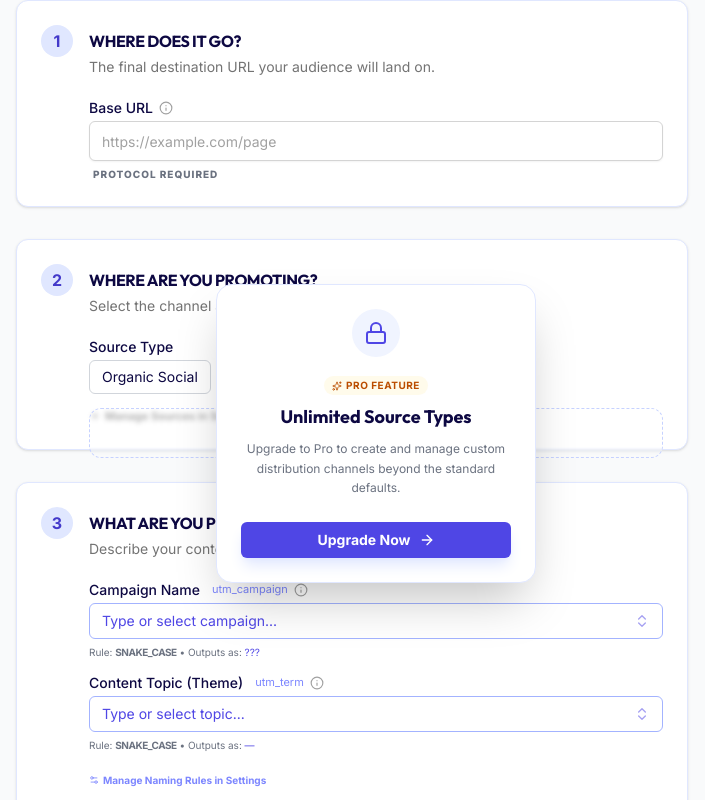
it: UtmGeneratorForm › validates Base URL on blur
This screenshot has width=705, height=800.
In the field labelled "Base URL": (376, 141) left=89, top=121, right=663, bottom=161, type "not-a-url"
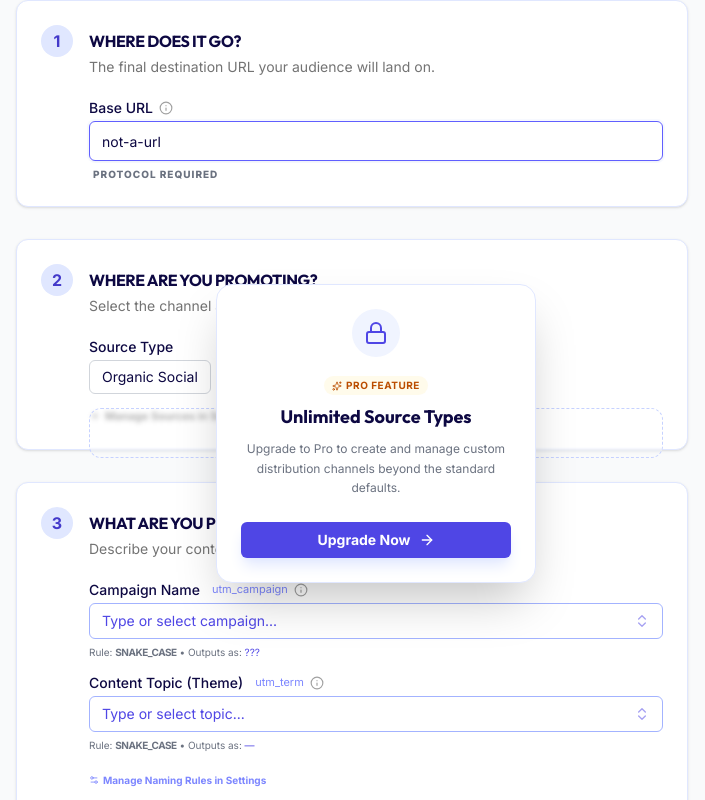
Press Tab
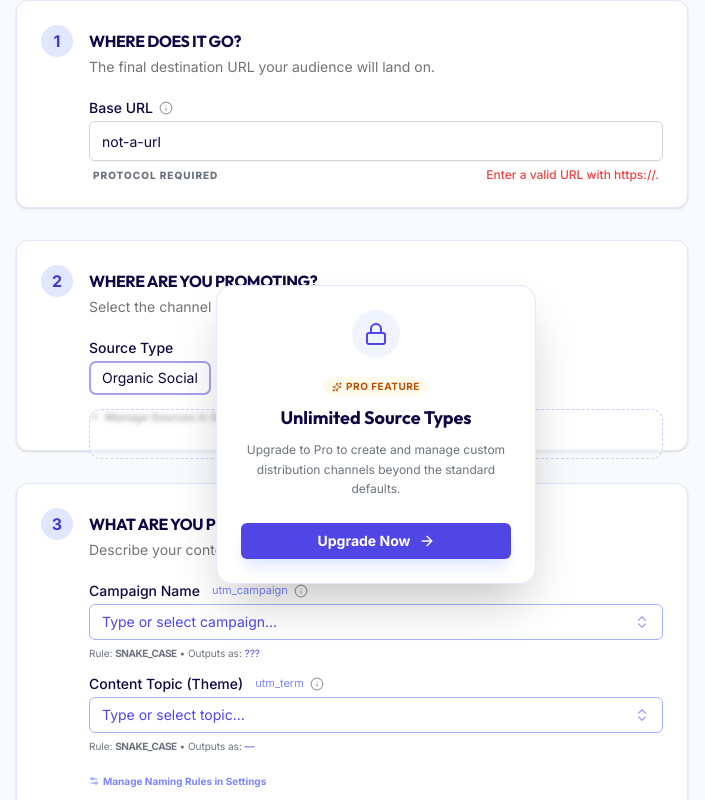
Expected: the text "Enter a valid URL with https://." is shown, left=486, top=167, right=659, bottom=183
